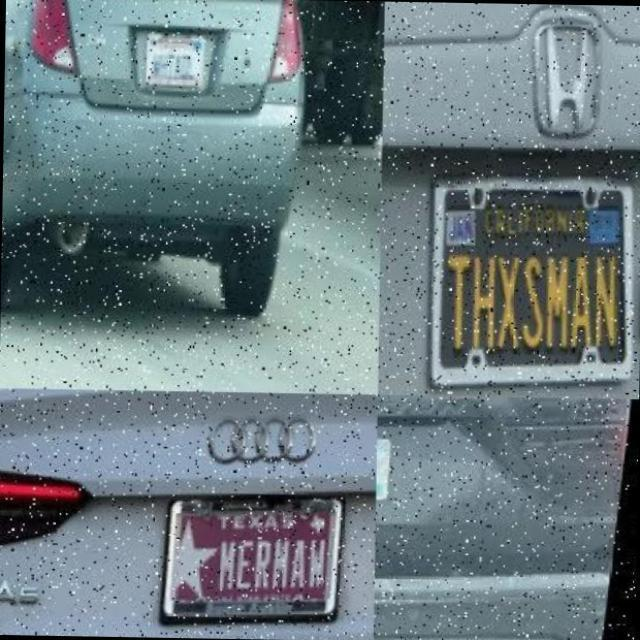license_plate: (415, 171, 640, 384), (166, 493, 351, 622), (148, 26, 218, 90)
